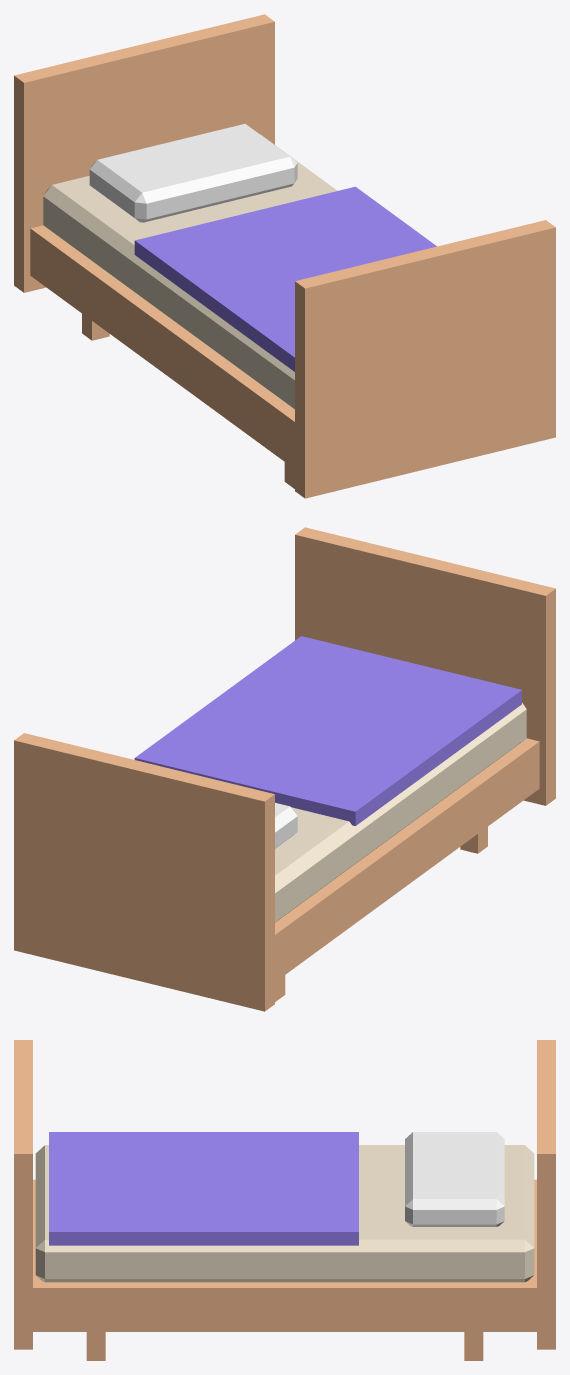
The picture shows the model from 3 angles, top to bottom: view 1: azimuth 30°, elevation 25°; view 2: azimuth 150°, elevation 25°; view 3: azimuth 270°, elevation 25°; orthographic projection. The views are drawn at different scales.
Visible parts, largest first — view 1: End board, End board.001, Blanket, Mattress, Frame, Pillow; view 2: End board.001, Blanket, End board, Frame, Mattress, Pillow; view 3: Blanket, Mattress, Frame, Pillow, End board, End board.001, Bed leg.002, Bed leg.003.
Boxes of the visible parts, x1,y1,x2,y2 form: End board: [295, 220, 555, 498]; End board.001: [14, 14, 274, 292]; Blanket: [134, 186, 436, 371]; Mattress: [43, 134, 337, 409]; Frame: [30, 225, 294, 468]; Pillow: [89, 124, 297, 222]; End board.001: [14, 733, 274, 1011]; Blanket: [134, 636, 521, 825]; End board: [295, 527, 555, 805]; Frame: [275, 738, 539, 981]; Mattress: [275, 702, 526, 922]; Pillow: [275, 802, 297, 848]; Blanket: [49, 1132, 358, 1245]; Mattress: [35, 1145, 534, 1282]; Frame: [33, 1179, 536, 1331]; Pillow: [405, 1132, 504, 1226]; End board: [14, 1040, 32, 1349]; End board.001: [537, 1040, 555, 1349]; Bed leg.002: [86, 1332, 105, 1360]; Bed leg.003: [464, 1332, 483, 1360].
Bounding box in the file's own units: 1 × 0.9 × 2.01.
Materials: 1 (1 with a texture image).
